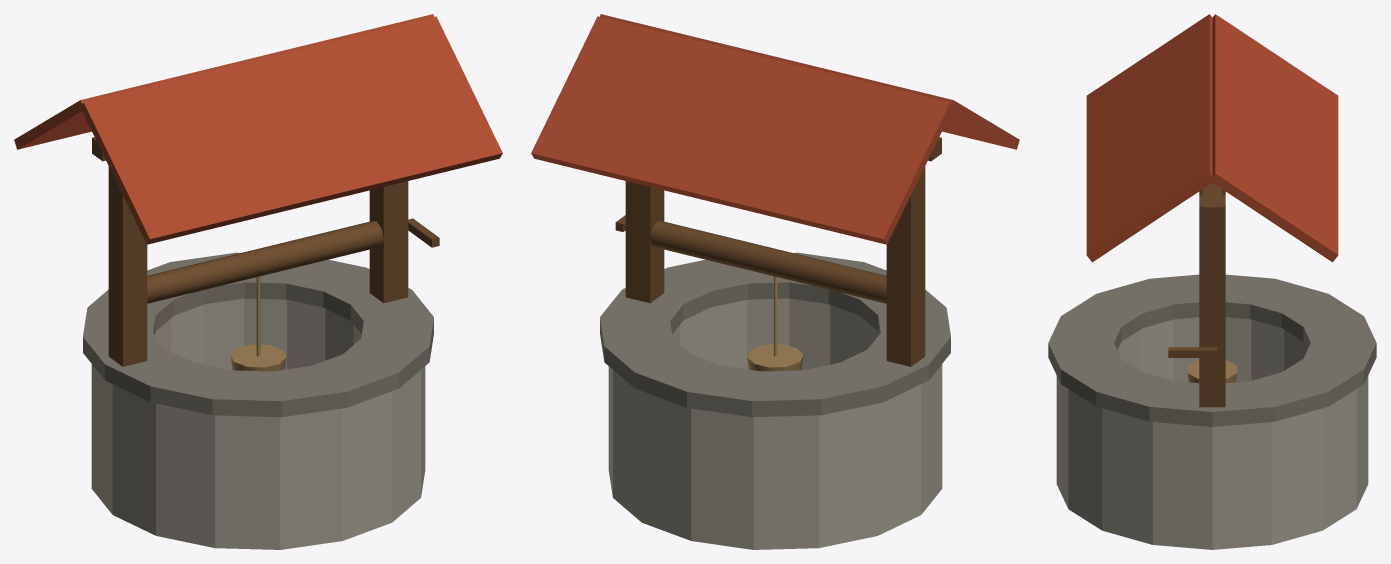
Rendered from mv_well.glb.
The picture shows the model from 3 angles, left to right: view 1: azimuth 30°, elevation 25°; view 2: azimuth 150°, elevation 25°; view 3: azimuth 270°, elevation 25°; orthographic projection. The views are drawn at different scales.
Visible parts, largest first — view 1: mv_well; view 2: mv_well; view 3: mv_well.
Boxes of the visible parts, x1=… form: mv_well: x1=14, y1=14, x2=502, y2=549; mv_well: x1=531, y1=14, x2=1019, y2=549; mv_well: x1=1048, y1=14, x2=1376, y2=549.
Size of the model in its own units: 2.3 by 2.62 by 2.
